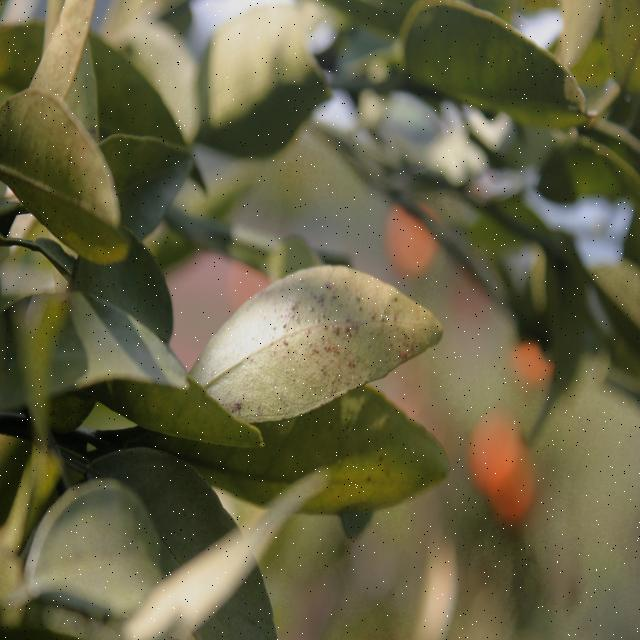melanose: (180, 264, 437, 406)
